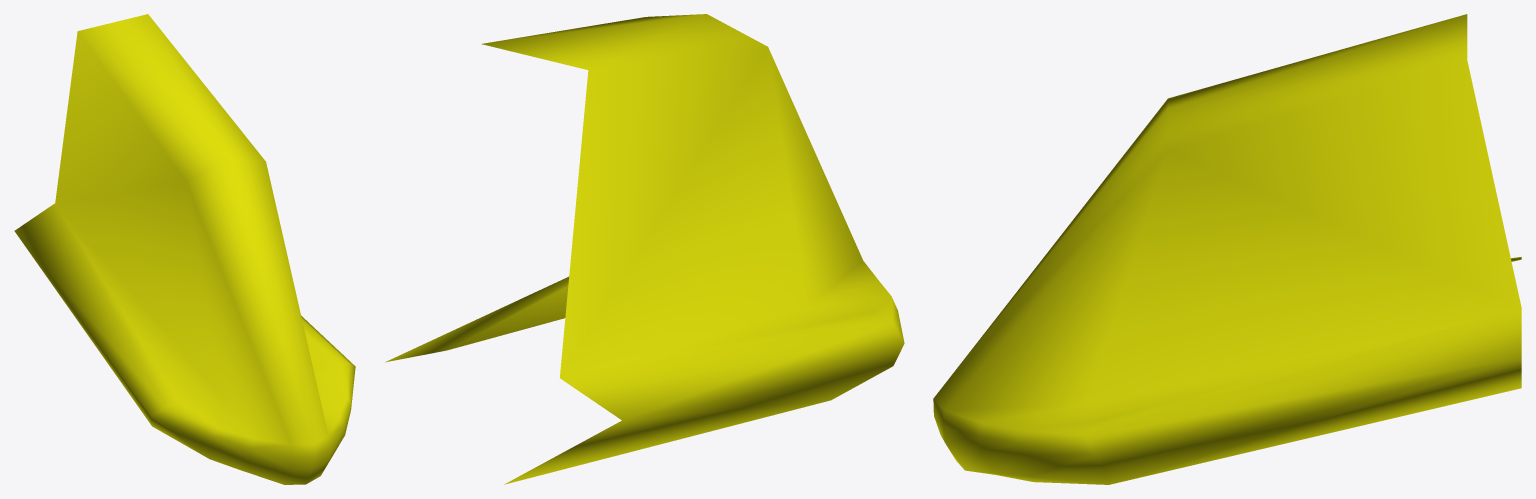
Rendered from Nose_9.glb.
3 renders of one model, left to right at view 1: azimuth 30°, elevation 25°; view 2: azimuth 150°, elevation 25°; view 3: azimuth 270°, elevation 25°, orthographic. The views are drawn at different scales.
Bounding box in the file's own units: 11.47 × 17.82 × 21.62.
